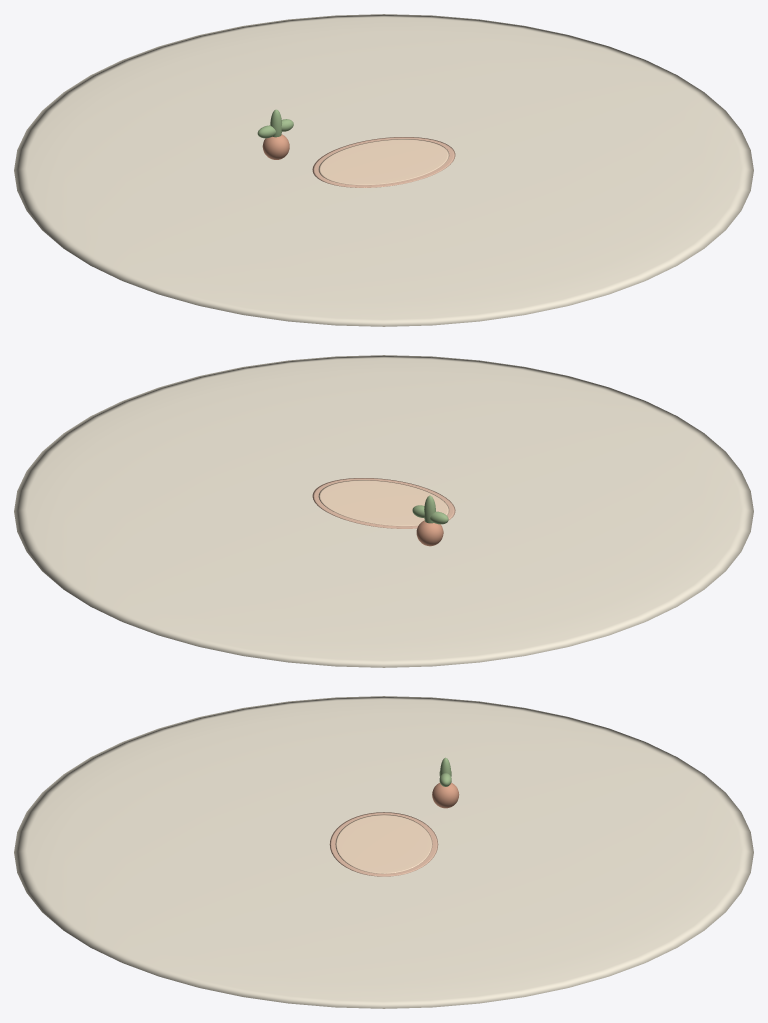
File: room.glb
3 renders of one model, top to bottom at view 1: azimuth 30°, elevation 25°; view 2: azimuth 150°, elevation 25°; view 3: azimuth 270°, elevation 25°, orthographic.
Visible parts, largest first — view 1: Floor, Rug center, Rug, Plant pot; view 2: Floor, Rug center, Rug, Plant pot; view 3: Floor, Rug center, Rug, Plant pot.
Boxes of the visible parts, left/top/right/bottom form: Floor: left=14, top=14, right=753, bottom=326; Rug center: left=318, top=139, right=449, bottom=185; Rug: left=312, top=137, right=455, bottom=187; Plant pot: left=262, top=134, right=289, bottom=159; Floor: left=14, top=355, right=753, bottom=667; Rug center: left=318, top=480, right=449, bottom=526; Rug: left=312, top=478, right=455, bottom=528; Plant pot: left=416, top=520, right=443, bottom=546; Floor: left=14, top=696, right=753, bottom=1008; Rug center: left=335, top=814, right=432, bottom=873; Rug: left=329, top=812, right=438, bottom=876; Plant pot: left=432, top=783, right=459, bottom=808.
Size of the model in its own units: 3 by 0.29 by 3.
